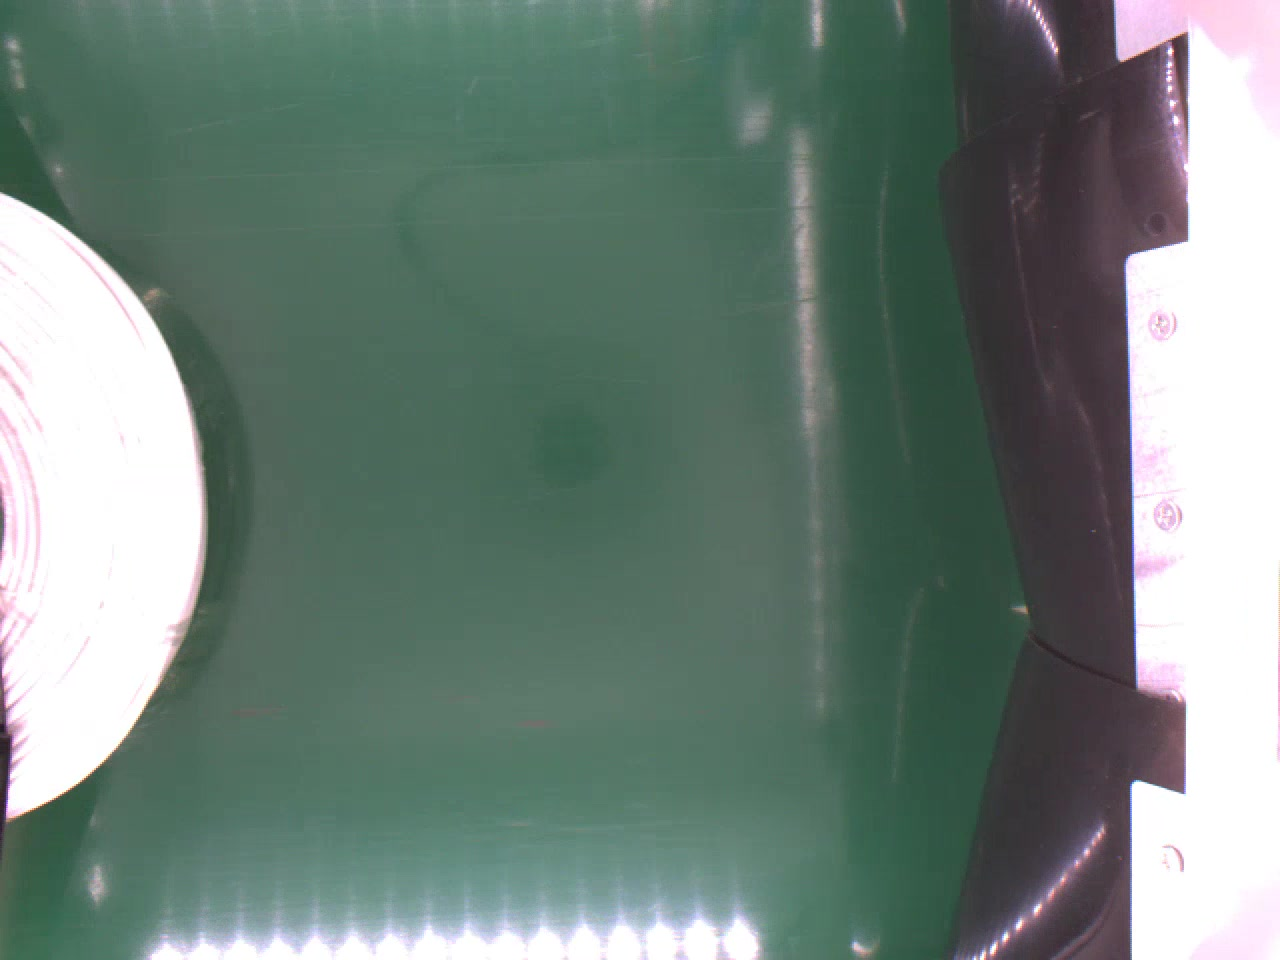white: (0, 184, 205, 822)
